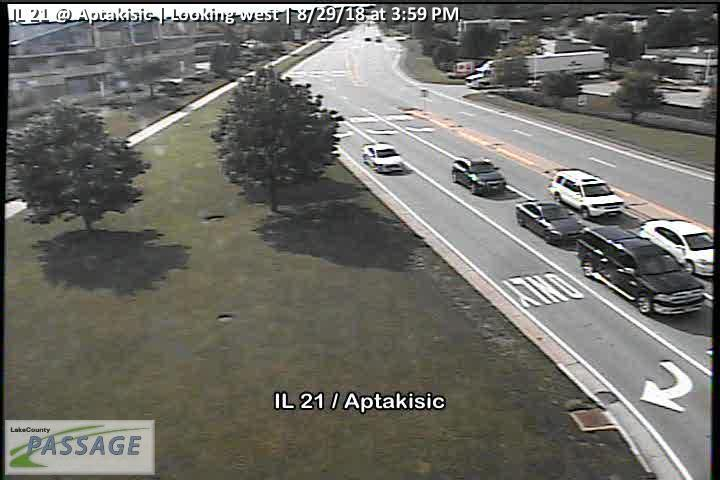SUV: (575, 226, 705, 318), (547, 169, 625, 218), (447, 156, 507, 197)
Sedan: (638, 218, 713, 276), (515, 198, 578, 242), (361, 144, 403, 173)
Truck: (466, 48, 607, 89)
